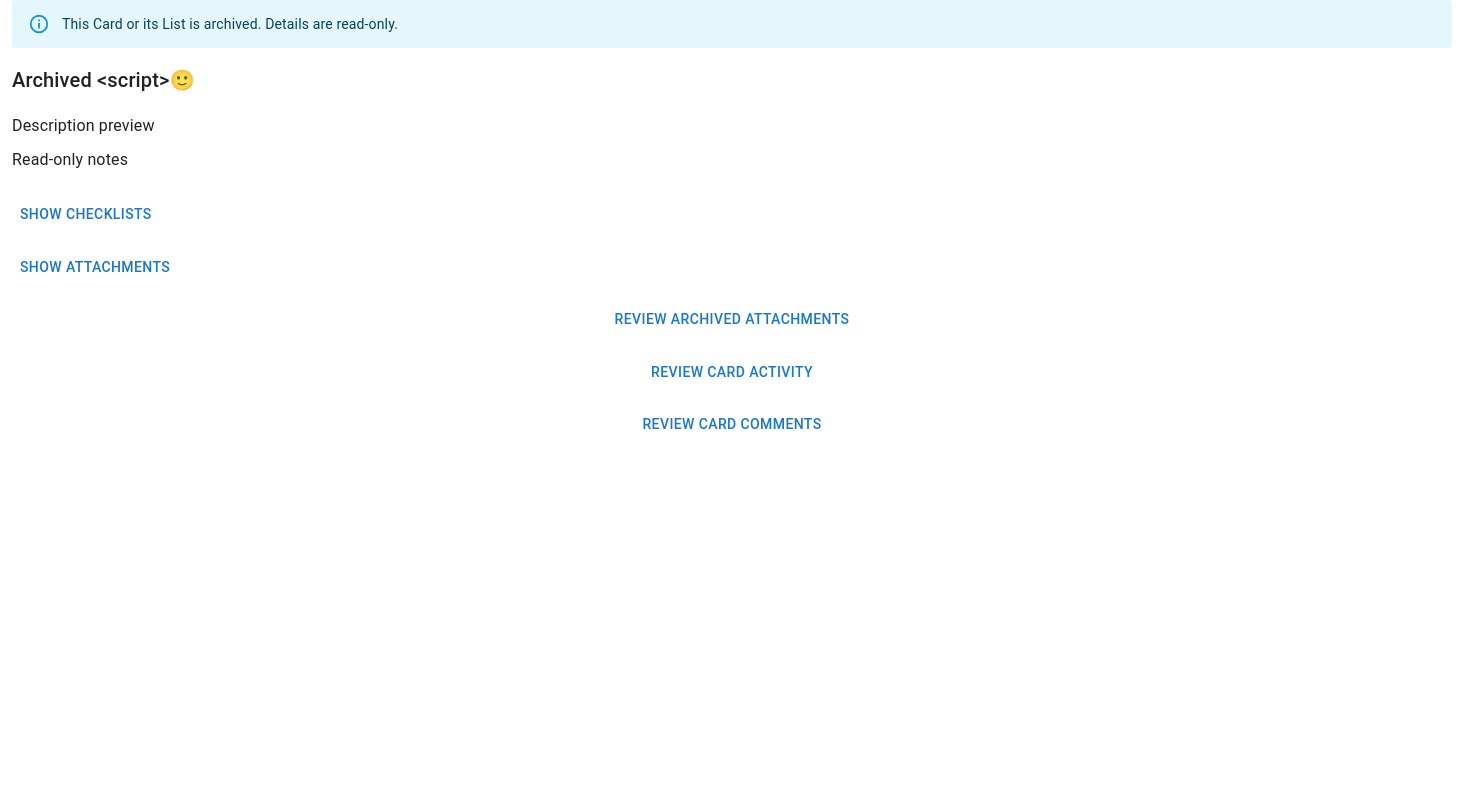
reads scoped archived details, exposes comments and history without mutation controls, and purges immediately on invalidation
Expected: the heading "Archived <script>🙂" is shown, [12,68,195,92]
Click the button "Review Card activity" at (732, 372), box [12,354,1452,390]
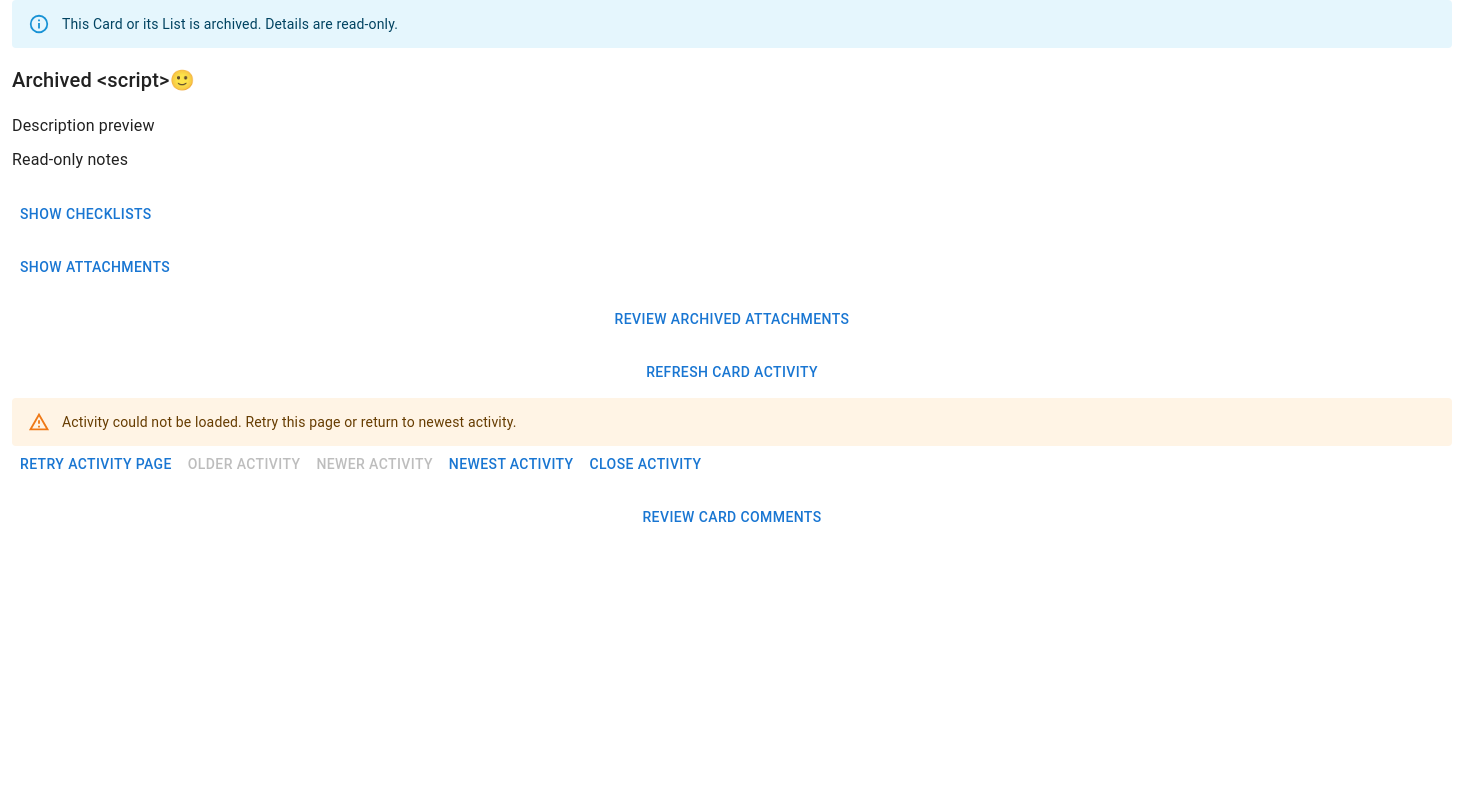
Click the button "Review Card comments" at (732, 517), box [12,498,1452,535]
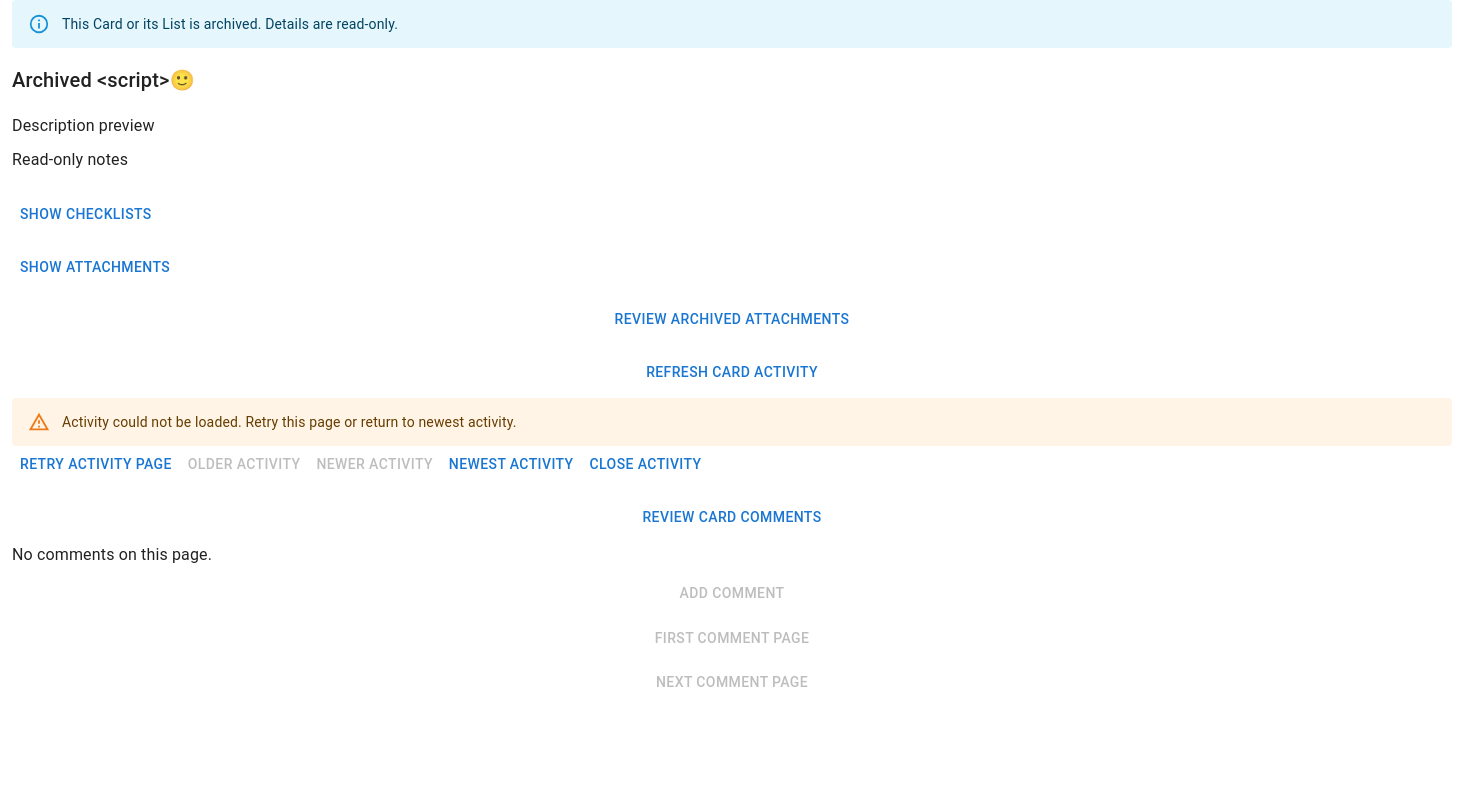
Expected: the button "Add comment" is disabled, [12,575,1452,612]
